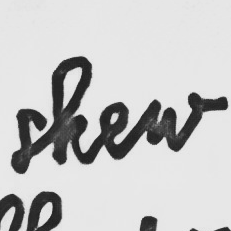e: (97, 99, 132, 163)
k: (49, 52, 94, 168)
s: (8, 106, 48, 176)
w: (143, 90, 206, 153)
